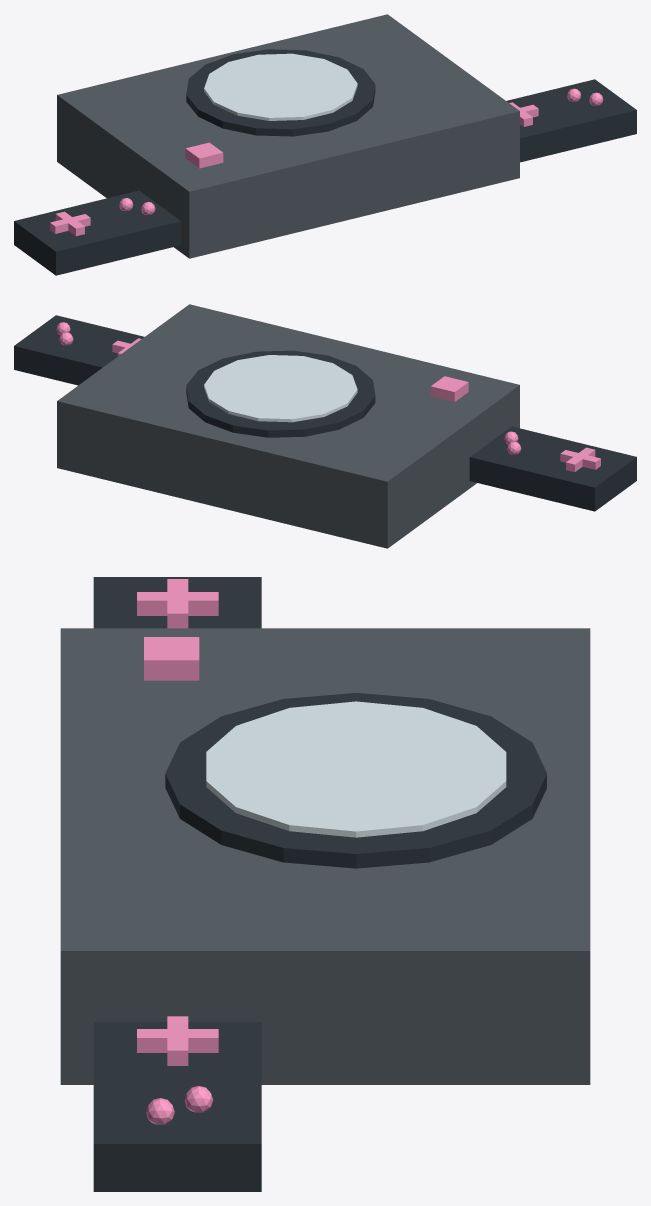
Rendered from disc-console-lod1.glb.
3 renders of one model, top to bottom at view 1: azimuth 30°, elevation 25°; view 2: azimuth 150°, elevation 25°; view 3: azimuth 270°, elevation 25°, orthographic. The views are drawn at different scales.
Parts seen in each view (by area): view 1: console, controller_0_body, disc, controller_1_body, disc_lid, power, controller_0_dpad_h; view 2: console, controller_0_body, disc, disc_lid, controller_1_body, power, controller_0_dpad_h; view 3: console, disc, controller_1_body, disc_lid, controller_0_body, power, controller_1_dpad_v, controller_0_dpad_v, controller_0_dpad_h, controller_1_dpad_h.
Part boxes in pixels (bbox=[...]): console: bbox=[57, 14, 519, 258]; controller_0_body: bbox=[14, 190, 181, 275]; disc: bbox=[204, 53, 357, 120]; controller_1_body: bbox=[506, 79, 636, 162]; disc_lid: bbox=[186, 49, 375, 136]; power: bbox=[185, 142, 223, 168]; controller_0_dpad_h: bbox=[50, 214, 90, 233]; console: bbox=[57, 304, 519, 548]; controller_0_body: bbox=[469, 426, 636, 511]; disc: bbox=[204, 355, 357, 422]; disc_lid: bbox=[186, 350, 375, 437]; controller_1_body: bbox=[14, 315, 144, 385]; power: bbox=[430, 376, 468, 401]; controller_0_dpad_h: bbox=[560, 450, 600, 469]; console: bbox=[60, 628, 590, 1084]; disc: bbox=[206, 701, 506, 837]; controller_1_body: bbox=[93, 1022, 261, 1191]; disc_lid: bbox=[165, 692, 546, 868]; controller_0_body: bbox=[93, 577, 261, 628]; power: bbox=[144, 637, 199, 680]; controller_1_dpad_v: bbox=[137, 1029, 218, 1052]; controller_0_dpad_v: bbox=[137, 592, 218, 615]; controller_0_dpad_h: bbox=[167, 579, 188, 628]; controller_1_dpad_h: bbox=[167, 1016, 188, 1065].
Bounding box in the file's own units: 10.9 × 1.41 × 4.3.
